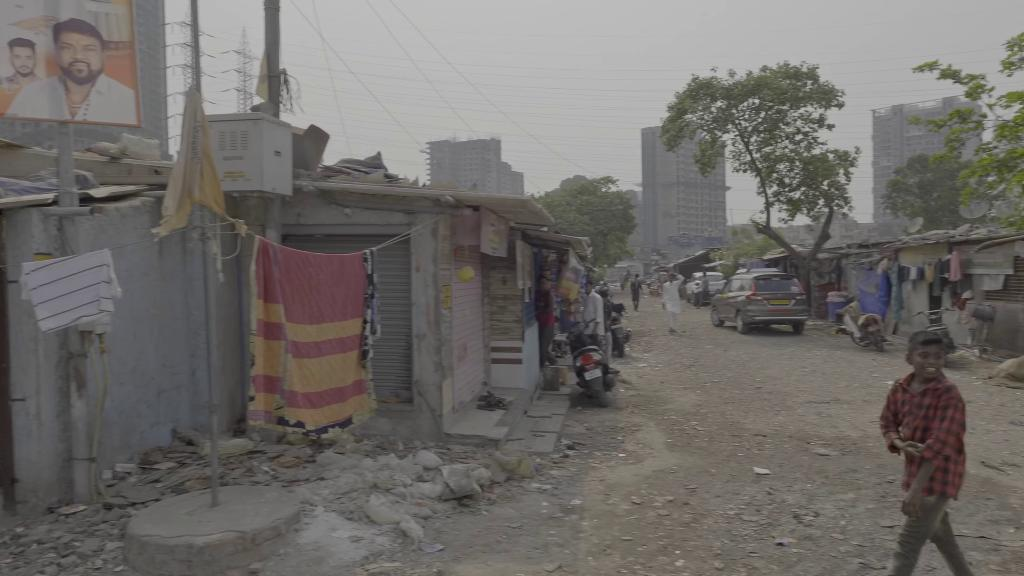garbage: (441, 464, 493, 502)
